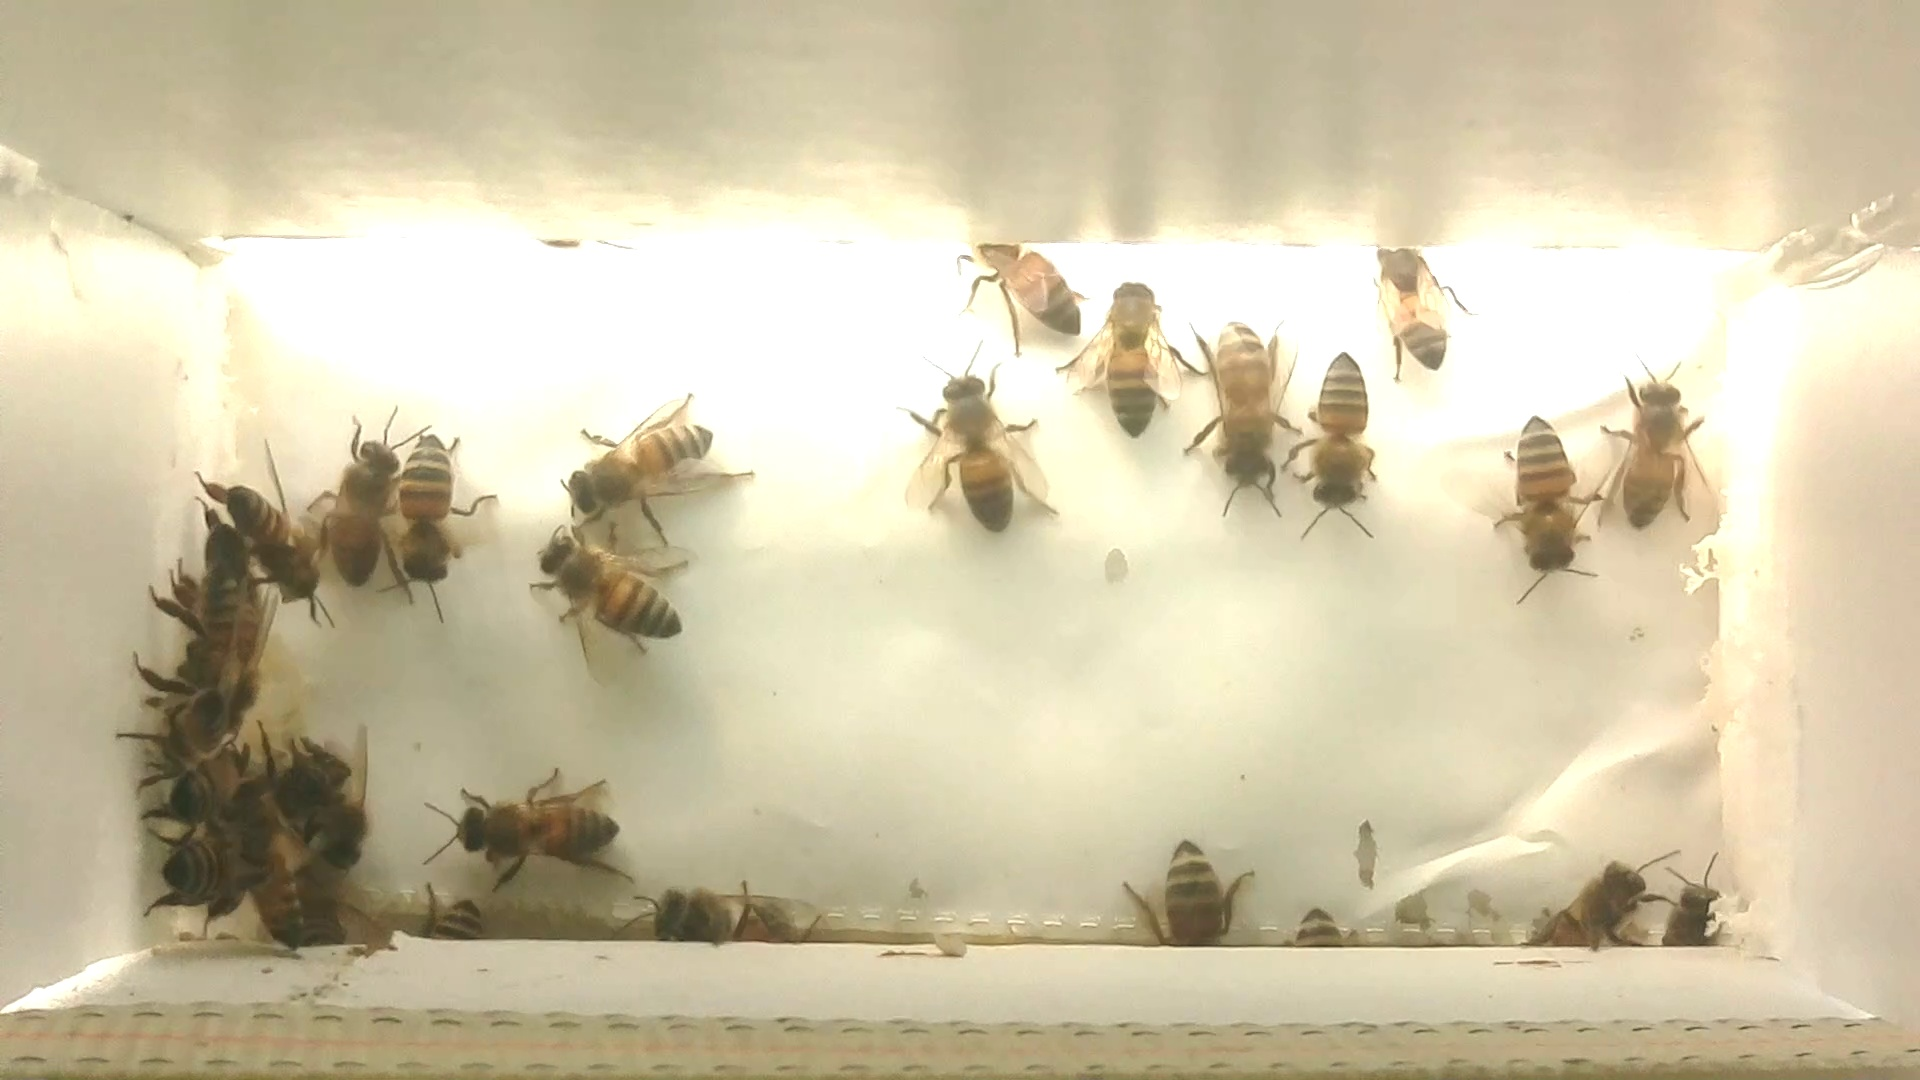bee: (894, 348, 1069, 539), (549, 392, 753, 546), (413, 765, 659, 891), (526, 525, 709, 686), (373, 419, 500, 634), (305, 393, 419, 626), (1182, 309, 1296, 520), (196, 444, 338, 615), (1478, 407, 1600, 603), (1288, 340, 1393, 553), (1106, 822, 1266, 955), (1068, 269, 1188, 444), (1510, 828, 1665, 963), (1601, 356, 1702, 549), (1350, 235, 1476, 385), (948, 229, 1087, 353), (116, 654, 239, 794), (165, 521, 276, 647), (272, 738, 375, 874), (615, 870, 767, 959), (131, 822, 244, 931), (1644, 851, 1727, 953), (128, 754, 228, 835), (1278, 895, 1361, 960), (419, 884, 483, 945)
